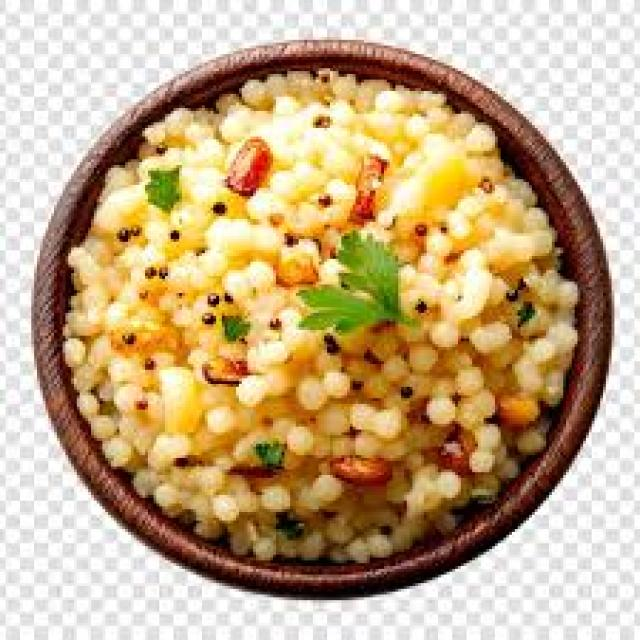UPMA: (57, 68, 575, 555)
